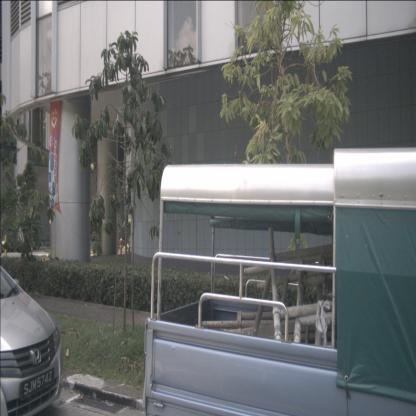vehicle-car: (1, 266, 64, 416)
vehicle-truck: (142, 148, 416, 415)
